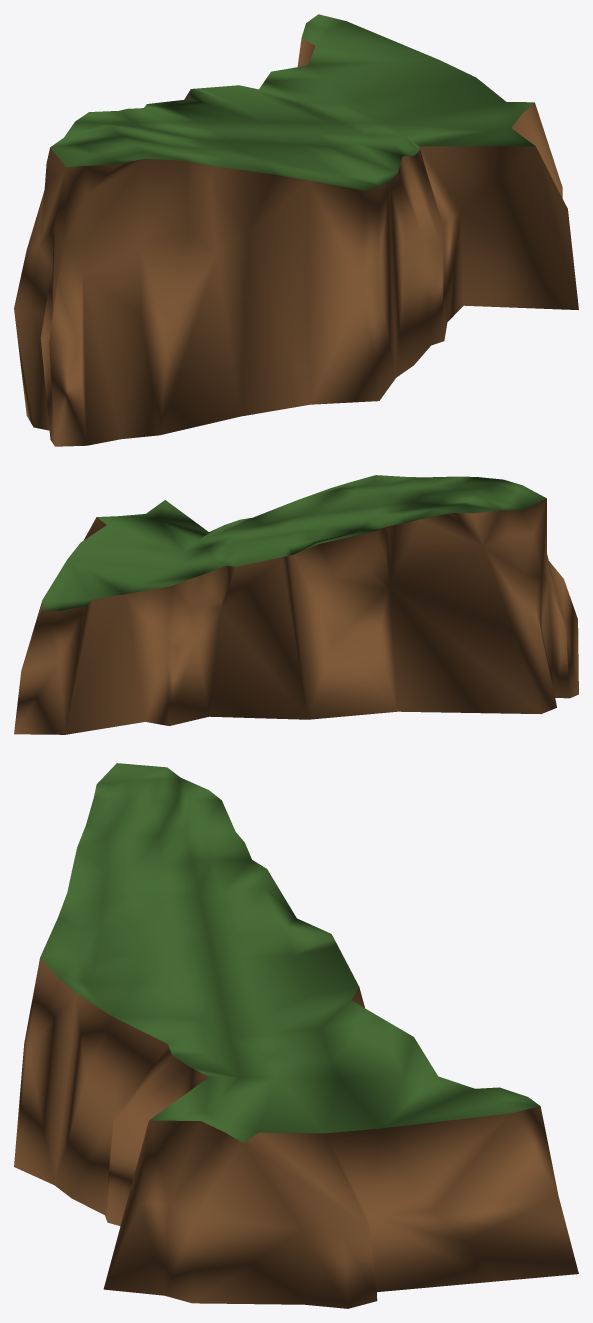
File: IslandLighthouse.fbx
3 views of the same model, one above another, from view 1: azimuth 30°, elevation 25°; view 2: azimuth 150°, elevation 25°; view 3: azimuth 270°, elevation 25° (orthographic). The views are drawn at different scales.
Visible parts, largest first — view 1: IslandLighthouse_Cliffside, IslandLighthouse_Grass; view 2: IslandLighthouse_Cliffside, IslandLighthouse_Grass; view 3: IslandLighthouse_Cliffside, IslandLighthouse_Grass.
Part boxes in pixels (<box>): IslandLighthouse_Cliffside: <box>14,38,578,446</box>; IslandLighthouse_Grass: <box>50,14,535,190</box>; IslandLighthouse_Cliffside: <box>14,498,578,734</box>; IslandLighthouse_Grass: <box>42,475,546,610</box>; IslandLighthouse_Cliffside: <box>14,958,578,1308</box>; IslandLighthouse_Grass: <box>40,763,540,1142</box>.
Bounding box in the file's own units: 113 × 49.46 × 93.51.
